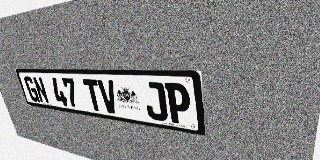4: (50, 77, 69, 107)
7: (61, 78, 81, 108)
G: (23, 76, 40, 102)
J: (143, 82, 168, 122)
N: (32, 77, 50, 104)
P: (164, 82, 192, 125)
T: (82, 79, 104, 112)
V: (97, 79, 120, 114)
